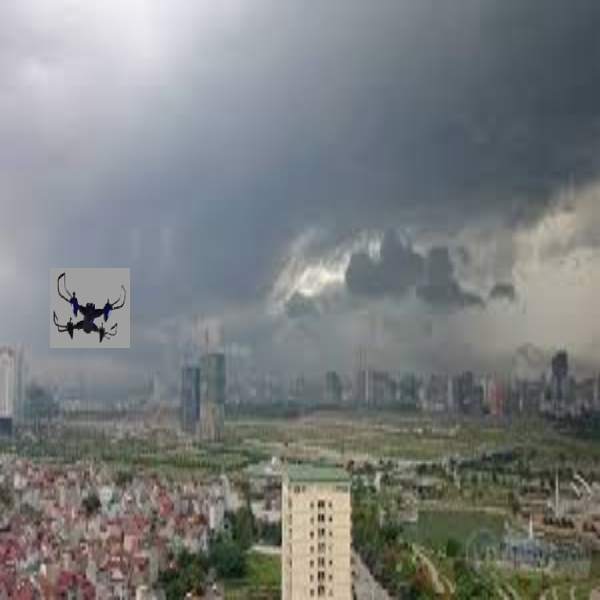drone: (48, 273, 128, 347)
